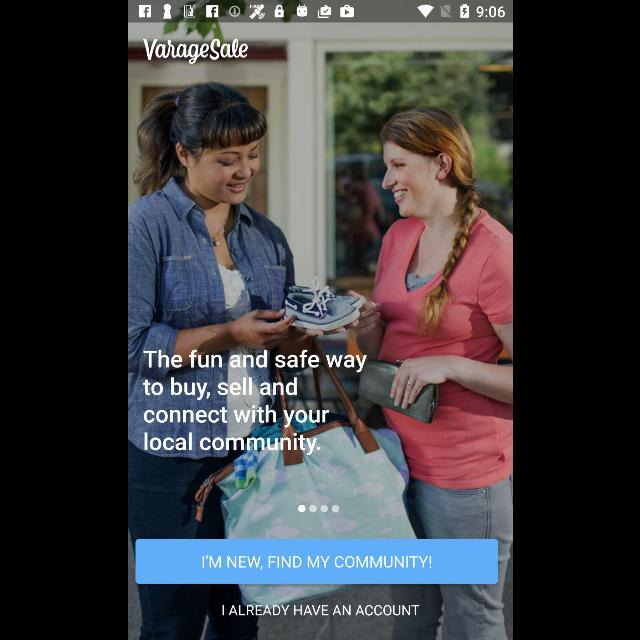backgroundimage: (128, 22, 512, 640)
image: (142, 38, 248, 64)
pageindicator: (297, 505, 339, 513)
text: (142, 349, 366, 455)
textbutton: (135, 538, 498, 584), (222, 604, 418, 616)
uppertaskbar: (128, 1, 512, 23)
